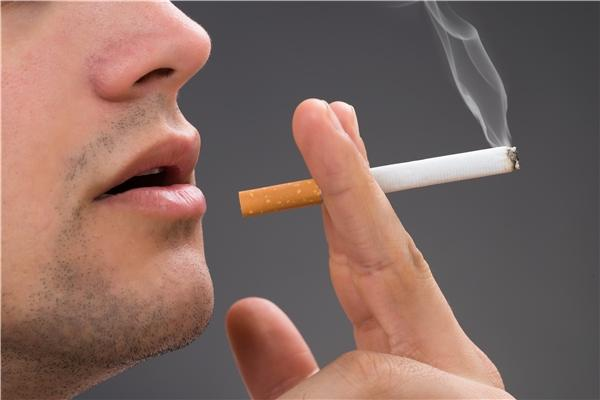smoke: (237, 144, 522, 218)
